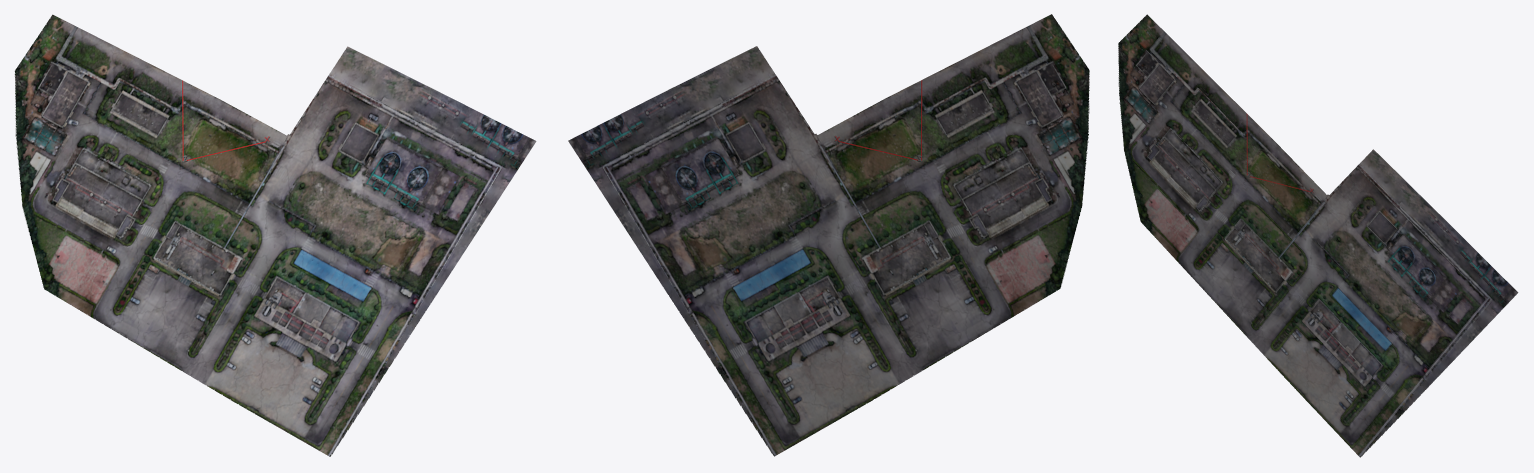
Rendered from dixing_02_77.fbx.
The picture shows the model from 3 angles, left to right: view 1: azimuth 30°, elevation 25°; view 2: azimuth 150°, elevation 25°; view 3: azimuth 330°, elevation 25°; orthographic projection. The views are drawn at different scales.
Visible parts, largest first — view 1: dixing_02_77; view 2: dixing_02_77; view 3: dixing_02_77.
Part boxes in pixels (x1,y1,x2,y2): dixing_02_77: (14, 14, 536, 456); dixing_02_77: (568, 14, 1089, 456); dixing_02_77: (1118, 14, 1518, 457).
Size of the model in its own units: 23780 by 22248 by 44.82.
Materials: 1 (1 with a texture image).
